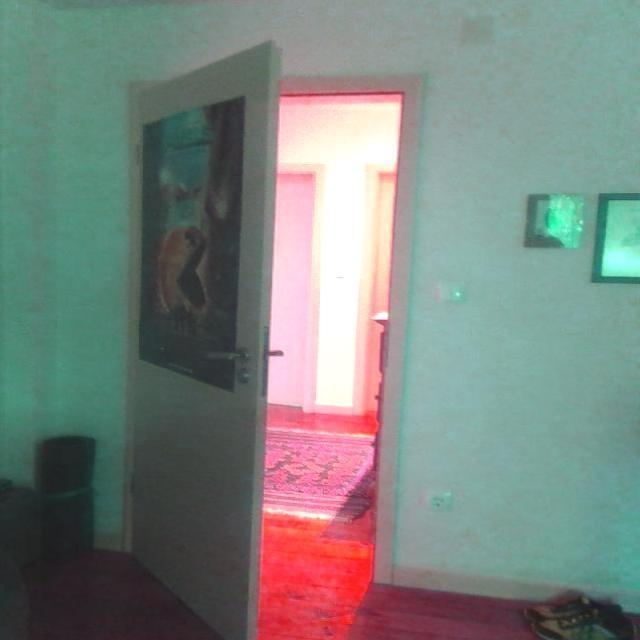door: (103, 40, 288, 640)
